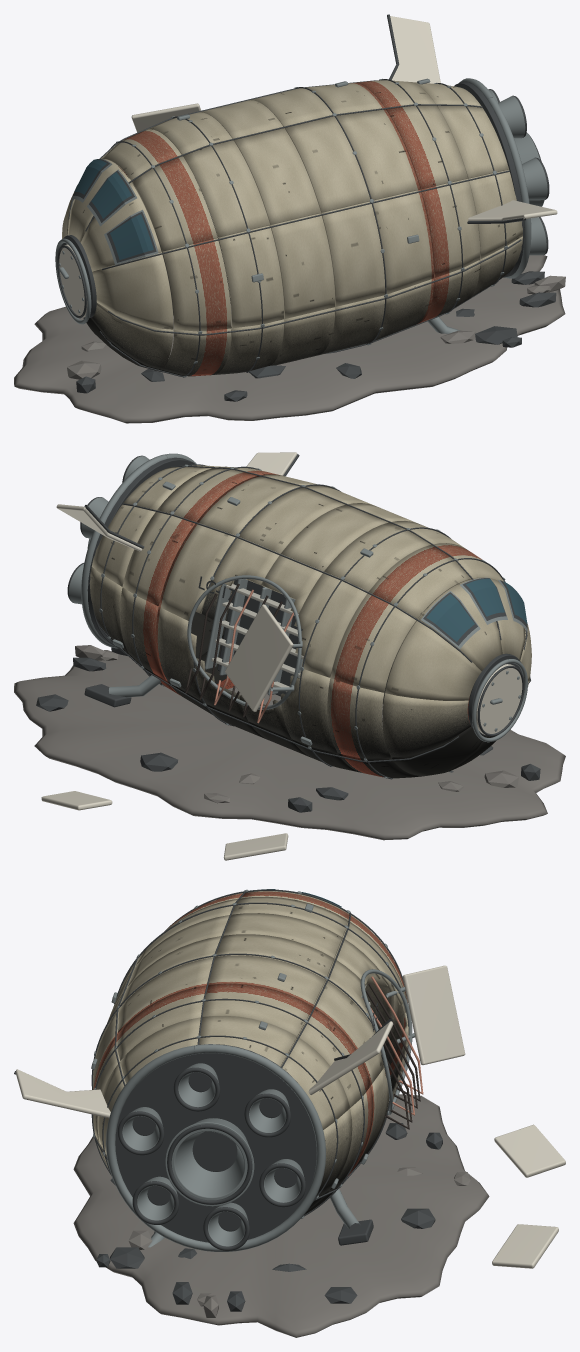
Rendered from crashed_capsule.glb.
The picture shows the model from 3 angles, top to bottom: view 1: azimuth 30°, elevation 25°; view 2: azimuth 150°, elevation 25°; view 3: azimuth 270°, elevation 25°; orthographic projection. The views are drawn at different scales.
Visible parts, largest first — view 1: Segmented ceramic shell with torn access aperture, Impact silt mound, Bent rear stabilizer.001, Rear collar, Rear firewall, Window 0 glass, Circular escape hatch, Bent rear stabilizer, Window 1 glass, Longitudinal panel gasket.001, Longitudinal panel gasket.002, Bent maintenance hatch (+10 smaller); view 2: Segmented ceramic shell with torn access aperture, Impact silt mound, Bent maintenance hatch, Circular escape hatch, Rear collar, Recessed maintenance equipment, Exposed torn aperture lip, Rear firewall, Window 2 glass, Detached ceramic fragment, Escape hatch outer rim, Detached ceramic fragment.001 (+15 smaller); view 3: Segmented ceramic shell with torn access aperture, Impact silt mound, Rear firewall, Rear collar, Bent maintenance hatch, Main engine, Detached ceramic fragment, Bent rear stabilizer, Detached ceramic fragment.001, Main engine dark throat, Bent rear stabilizer.001, Main engine lip (+20 smaller).
Boxes of the visible parts, x1,y1,x2,y2 form: Segmented ceramic shell with torn access aperture: (62,80,522,376); Impact silt mound: (14,255,565,423); Bent rear stabilizer.001: (390,16,440,83); Rear collar: (458,78,531,278); Rear firewall: (454,82,524,277); Window 0 glass: (110,214,153,259); Circular escape hatch: (59,244,87,317); Bent rear stabilizer: (468,200,557,220); Window 1 glass: (91,172,131,218); Longitudinal panel gasket.001: (108,239,521,335); Longitudinal panel gasket.002: (102,170,509,270); Bent maintenance hatch: (131,103,201,132); Segmented ceramic shell with torn access aperture: (89,465,531,778); Impact silt mound: (14,654,565,840); Bent maintenance hatch: (225,604,293,711); Circular escape hatch: (476,664,522,734); Rear collar: (81,453,196,648); Recessed maintenance equipment: (217,575,302,696); Exposed torn aperture lip: (187,575,301,709); Rear firewall: (87,457,195,645); Window 2 glass: (426,594,474,641); Detached ceramic fragment: (223,833,288,860); Escape hatch outer rim: (472,659,527,742); Detached ceramic fragment.001: (41,791,112,810); Segmented ceramic shell with torn access aperture: (93,891,408,1214); Impact silt mound: (73,1094,489,1337); Rear firewall: (115,1044,316,1242); Rear collar: (106,1044,325,1251); Bent maintenance hatch: (402,965,465,1065); Main engine: (165,1118,254,1206); Detached ceramic fragment: (494,1124,565,1177); Bent rear stabilizer: (15,1069,110,1117); Detached ceramic fragment.001: (492,1224,558,1268); Main engine dark throat: (192,1131,237,1171); Bent rear stabilizer.001: (308,1021,393,1094); Main engine lip: (167,1124,252,1204).
Size of the model in its own units: 7.07 by 3.24 by 5.86.
9 materials, 1 textured.
